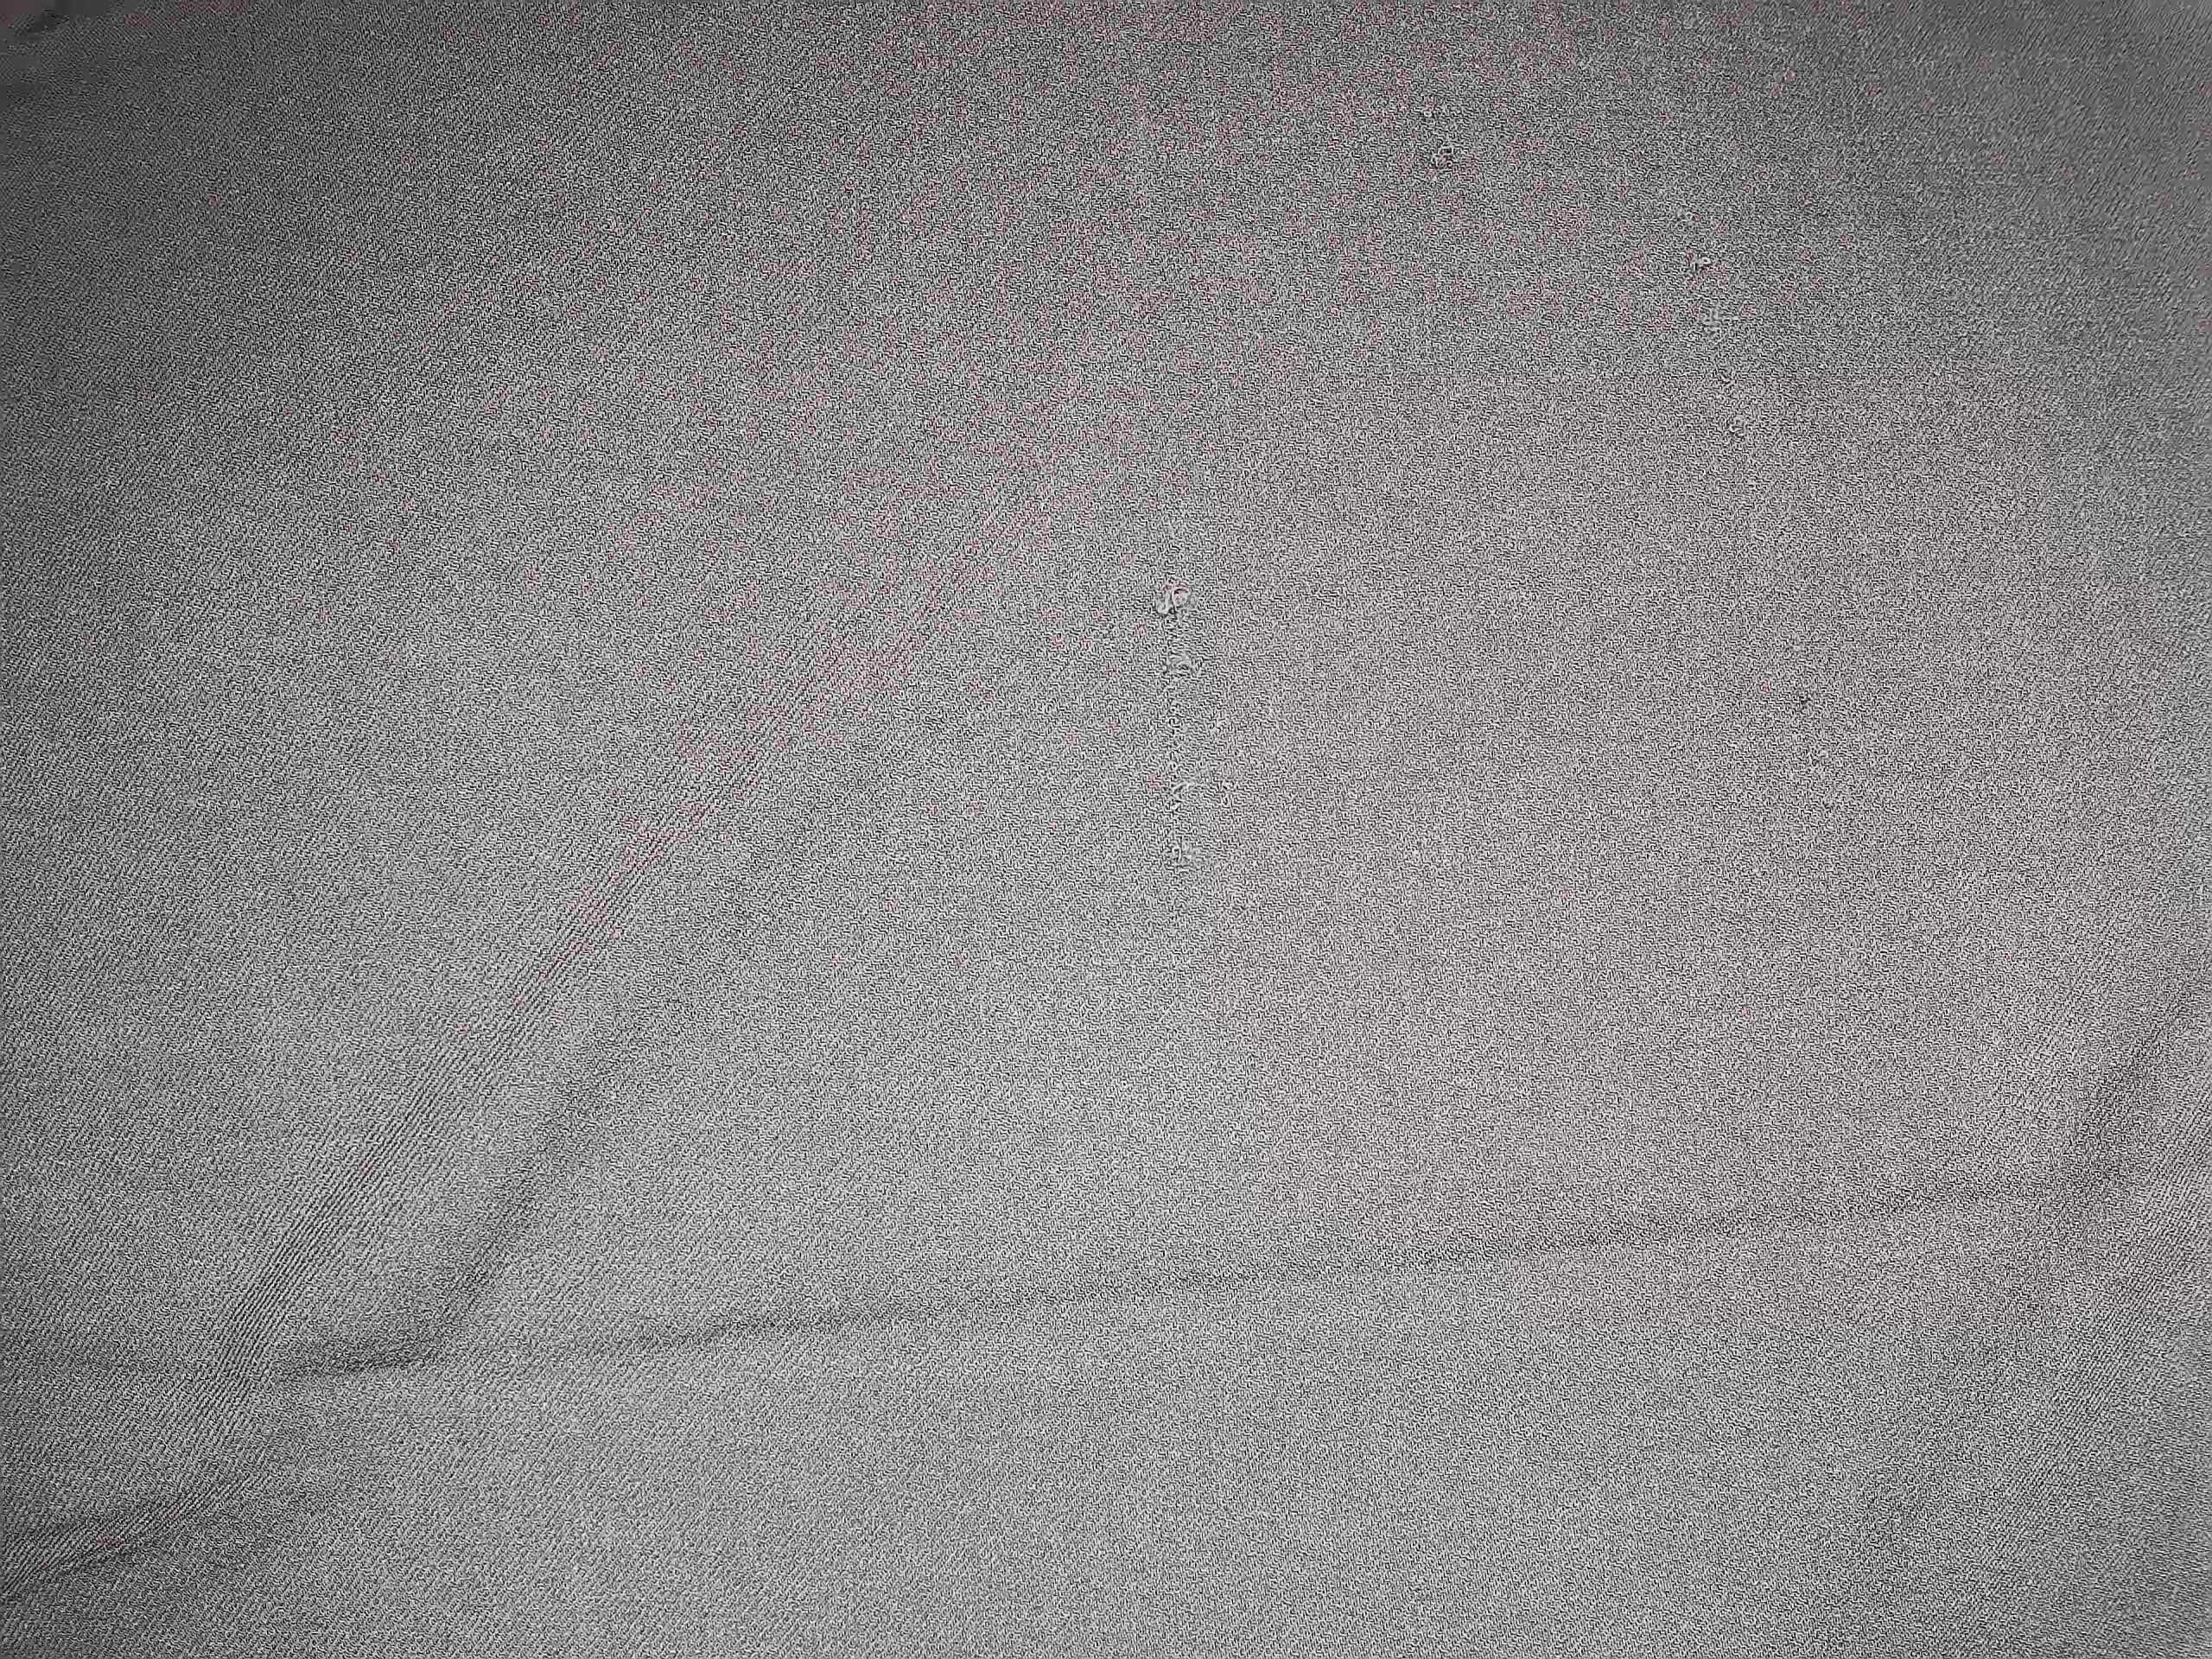puncture-hole: (1143, 552, 1223, 990), (1406, 84, 1489, 214), (1658, 183, 1731, 307)
